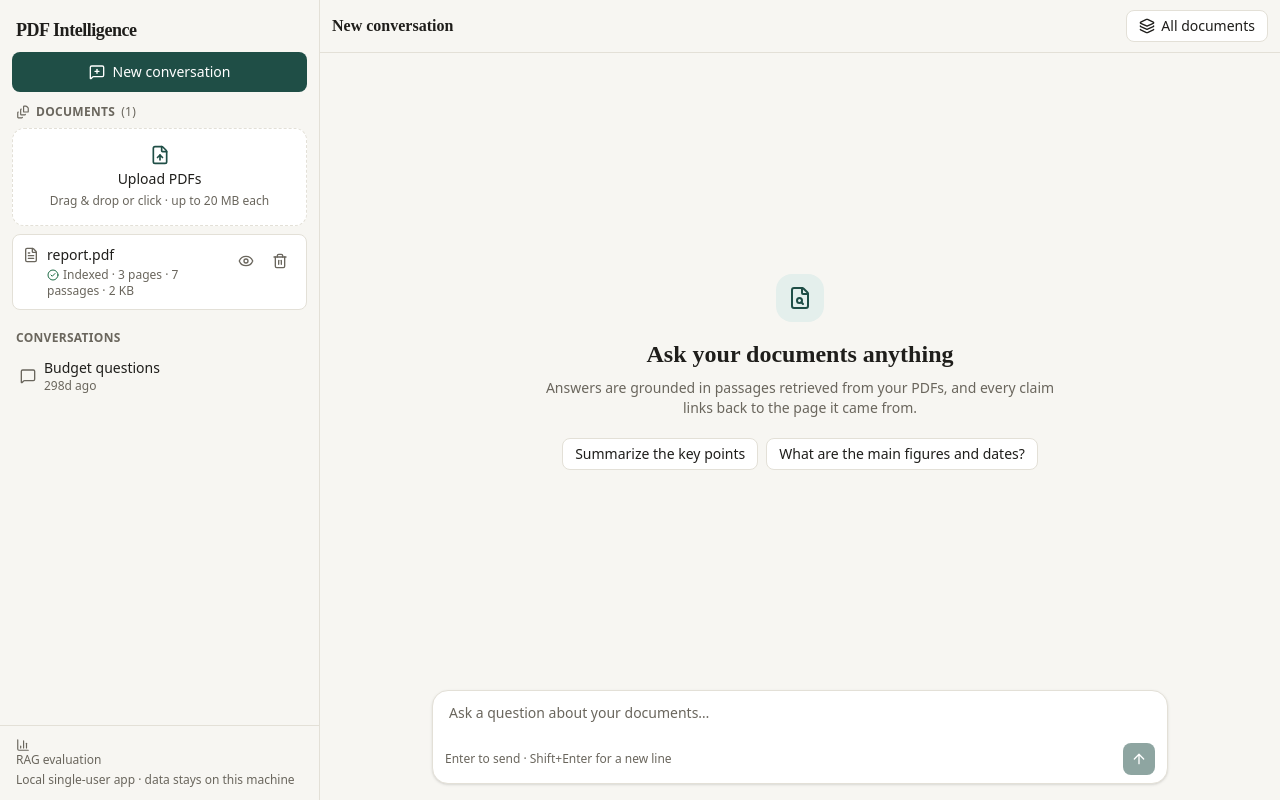
Scenario: Workspace › starting a new conversation clears the previous one
The image size is (1280, 800).
Click the button "Budget questions 298d ago". click: (160, 376)
box: [12,350,307,402]
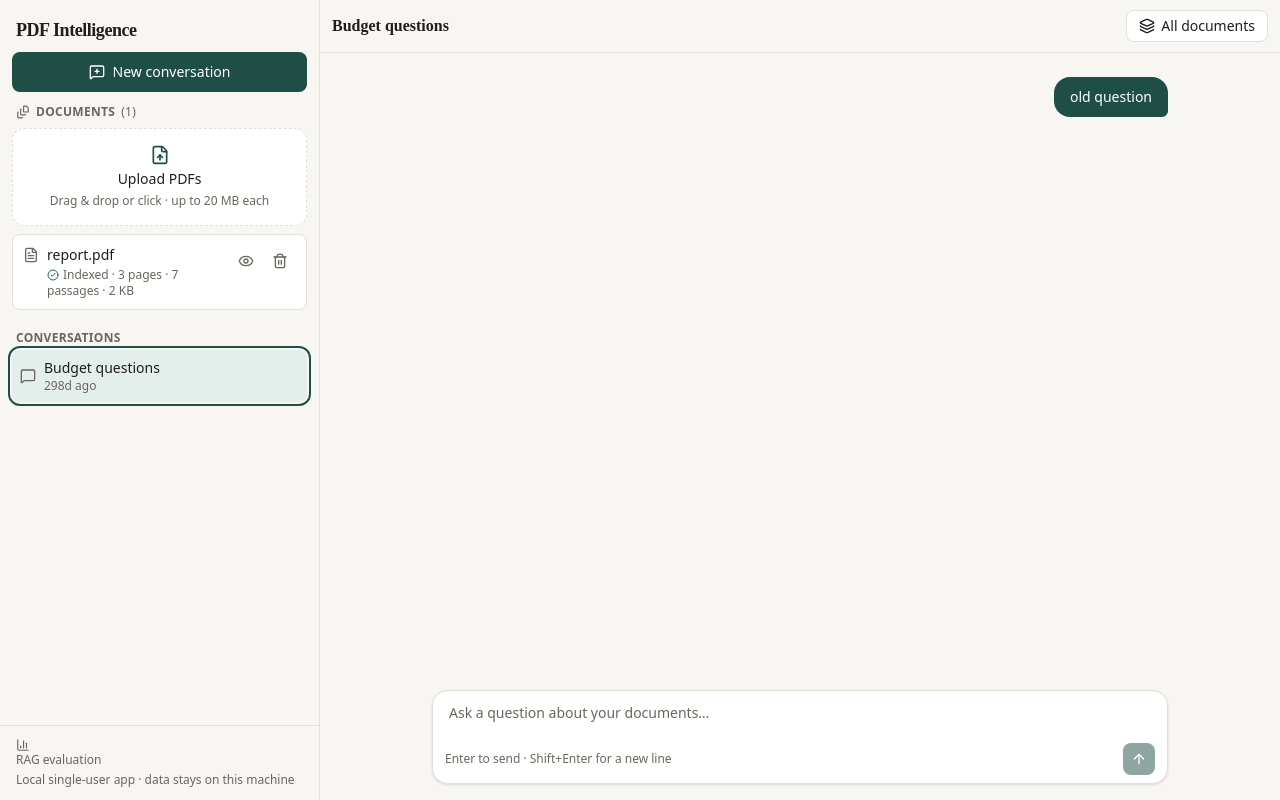
Check: the text "old question" is shown, box [1054,77,1168,117]
Click the button "New conversation". click: (160, 72)
box: [12,52,307,92]
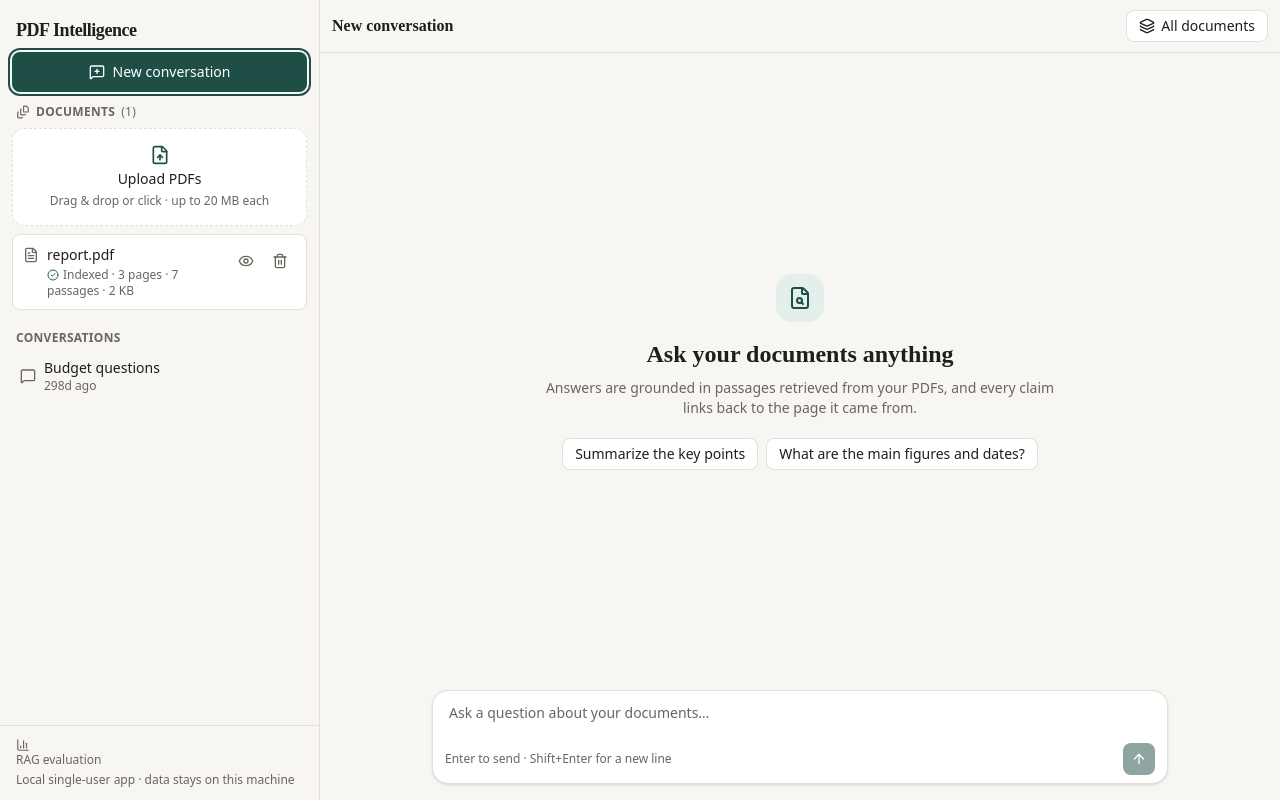
Check: the text "old question" is gone
Check: the heading "Ask your documents anything" is shown, box [646,338,954,370]
